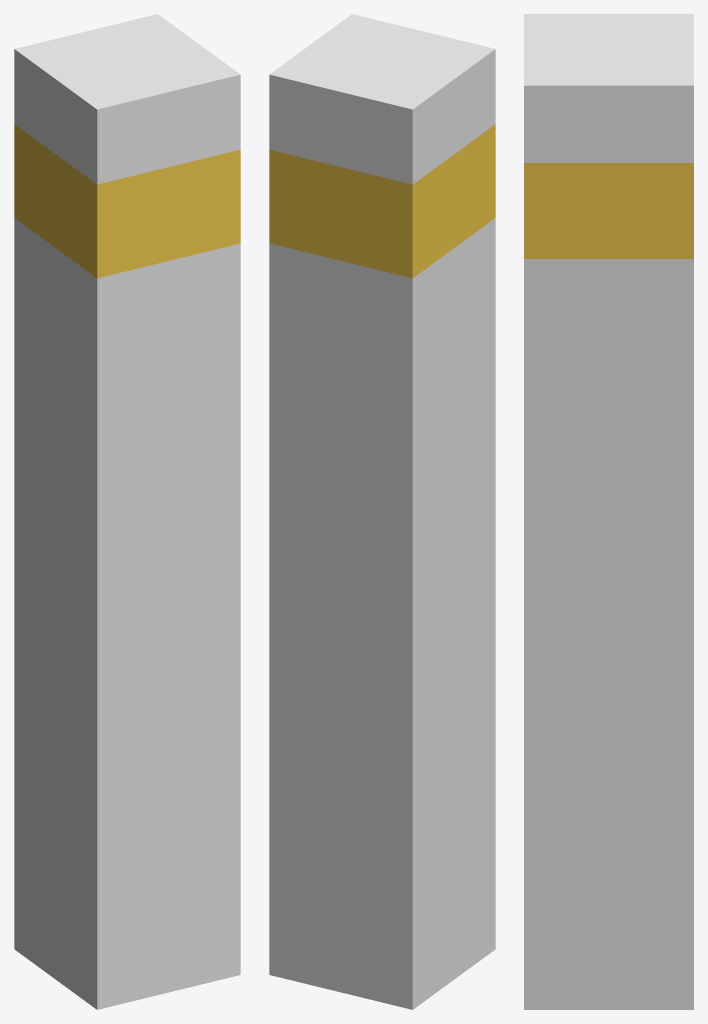
File: lantai_2_corridor_pillar.obj
3 views of the same model, side by side, from view 1: azimuth 30°, elevation 25°; view 2: azimuth 150°, elevation 25°; view 3: azimuth 270°, elevation 25° (orthographic). The views are drawn at different scales.
Size of the model in its own units: 0.8 by 4.8 by 0.8.
Materials: 1 (1 with a texture image).
